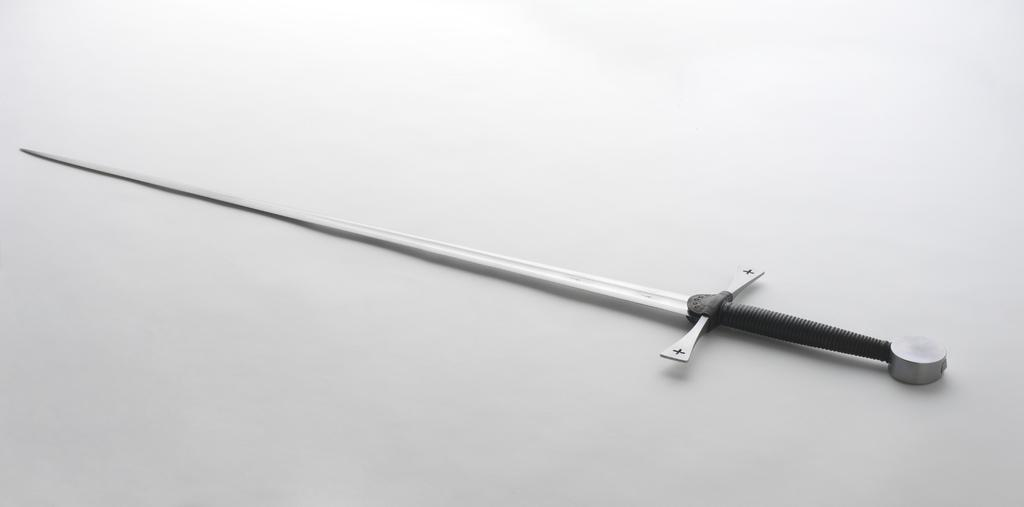Sword: (18, 145, 950, 385)
